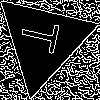T: (18, 16, 69, 57)
